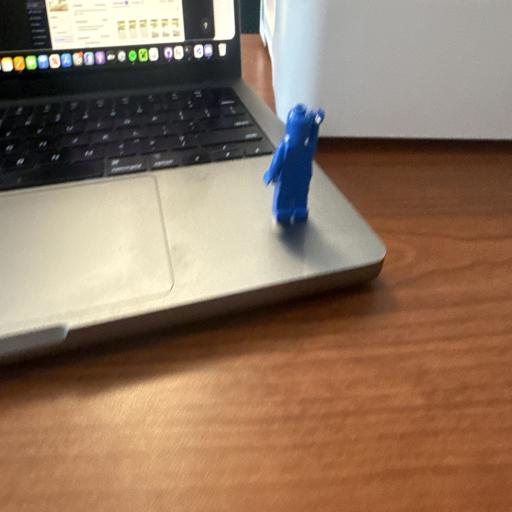Minifig: (263, 104, 324, 222)
